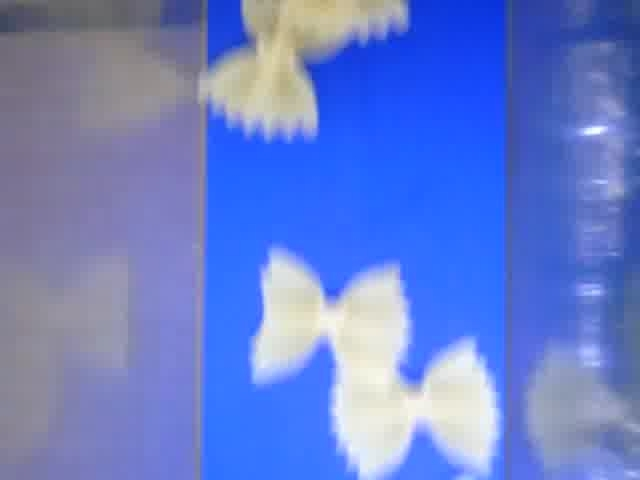farfalle: (334, 345, 503, 476), (250, 247, 410, 385), (203, 1, 343, 143)
